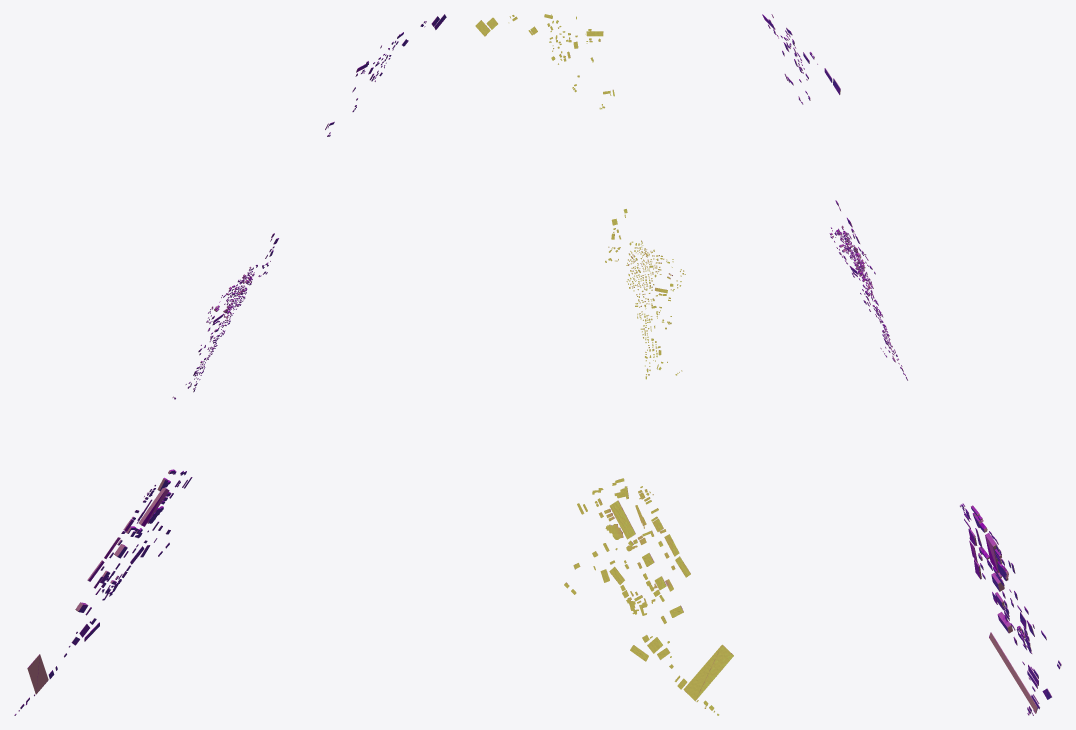
3 views of the same model, side by side, from view 1: azimuth 30°, elevation 25°; view 2: azimuth 150°, elevation 25°; view 3: azimuth 270°, elevation 25° (orthographic). The views are drawn at different scales.
Parts seen in each view (by area): view 1: geometry_0; view 2: geometry_0; view 3: geometry_0.
Part boxes in pixels (x1,y1,x2,y2): geometry_0: [14, 14, 446, 715]; geometry_0: [475, 14, 733, 715]; geometry_0: [762, 14, 1061, 715].
Size of the model in its own units: 2123 by 3824 by 1195.
